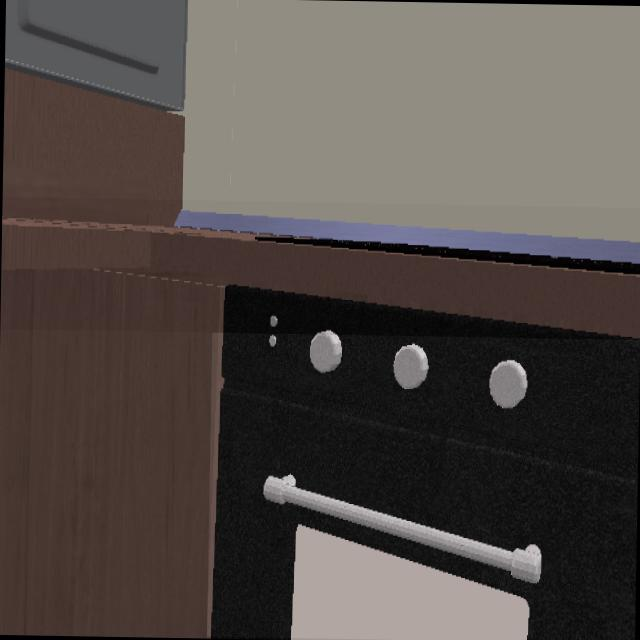countertop: (2, 197, 640, 340)
oven: (206, 288, 640, 640)
